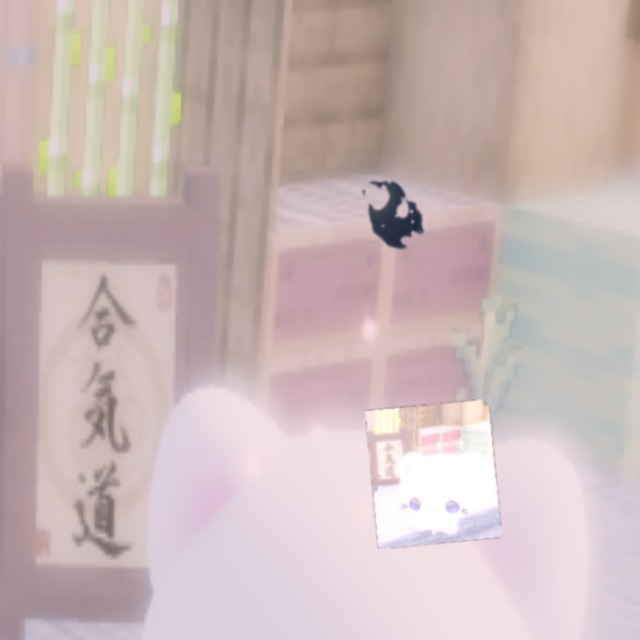urso_branco: (365, 399, 502, 549)
urso_preto: (344, 157, 441, 271)
